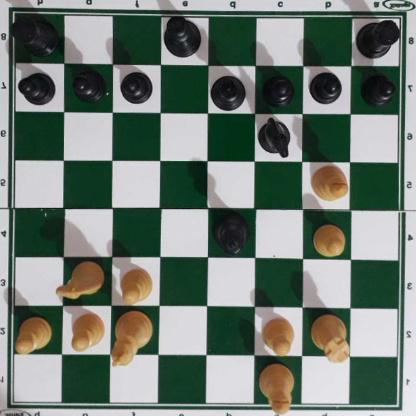black-bishop: (210, 74, 249, 112)
black-king: (163, 15, 204, 58)
black-knight: (257, 115, 293, 158)
black-pawn: (20, 69, 56, 105), (72, 68, 107, 102), (121, 68, 154, 102), (362, 72, 396, 104), (311, 70, 343, 104), (263, 72, 295, 105)
black-queen: (214, 211, 253, 254)
black-rook: (356, 15, 403, 58), (11, 13, 58, 55)
white-bishop: (258, 362, 296, 415), (309, 165, 350, 201)
white-king: (111, 308, 155, 367)
white-knight: (55, 260, 107, 301)
white-pawn: (70, 311, 106, 352), (16, 315, 53, 352), (119, 266, 154, 305), (262, 316, 296, 356), (312, 222, 349, 258)
white-rook: (310, 313, 353, 363)
